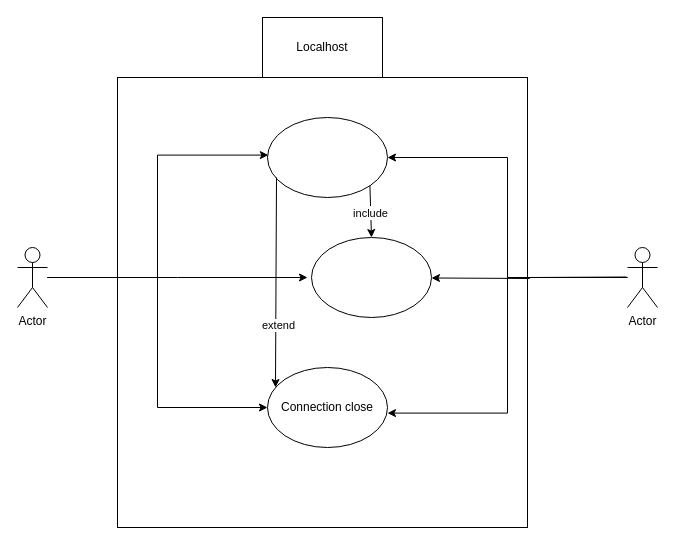
This 675x545 diagram has some shape labels left out. The centre of each missing label's shape, as x and y in pixels:
Connect: (371,277)
Message sending: (327,157)
